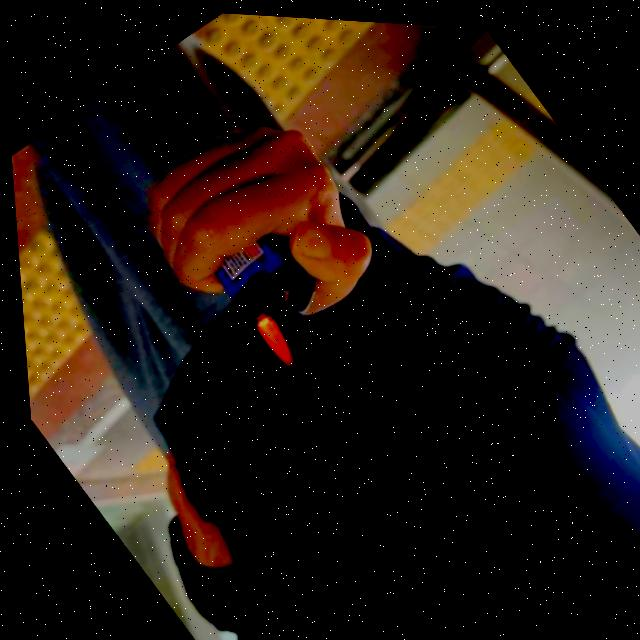Fire: (245, 307, 298, 367)
